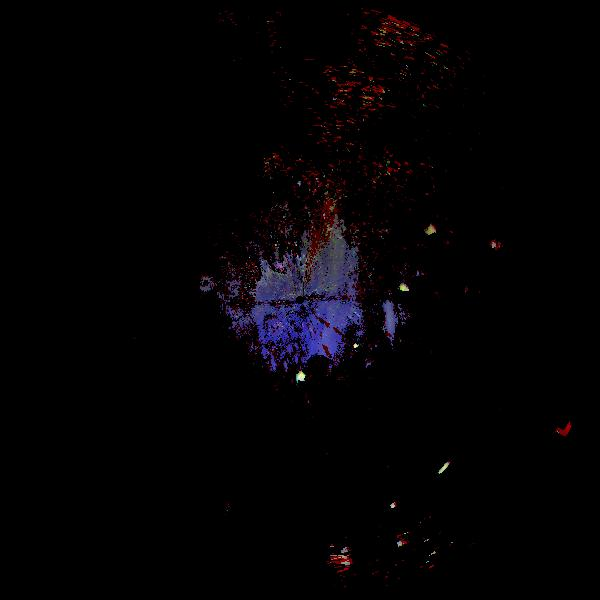roost: (437, 460, 455, 478), (425, 221, 443, 239), (398, 283, 413, 298), (294, 368, 309, 383), (351, 340, 363, 352), (388, 501, 400, 513)
